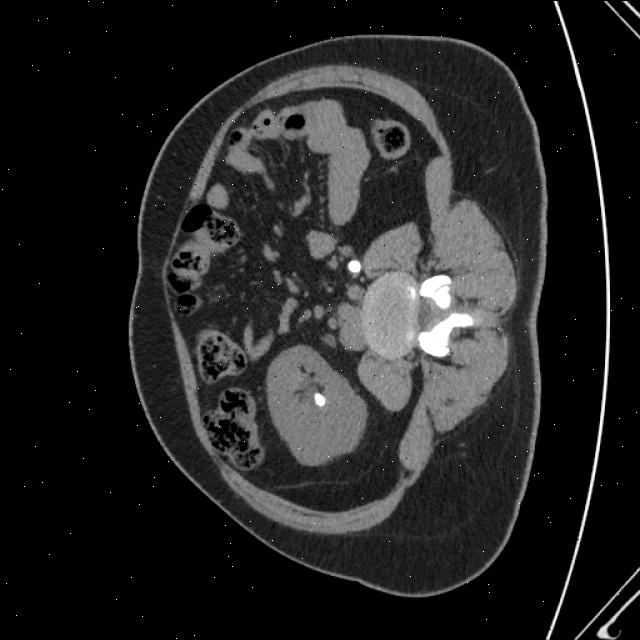kidneystone: (346, 258, 362, 275), (315, 392, 326, 405)
